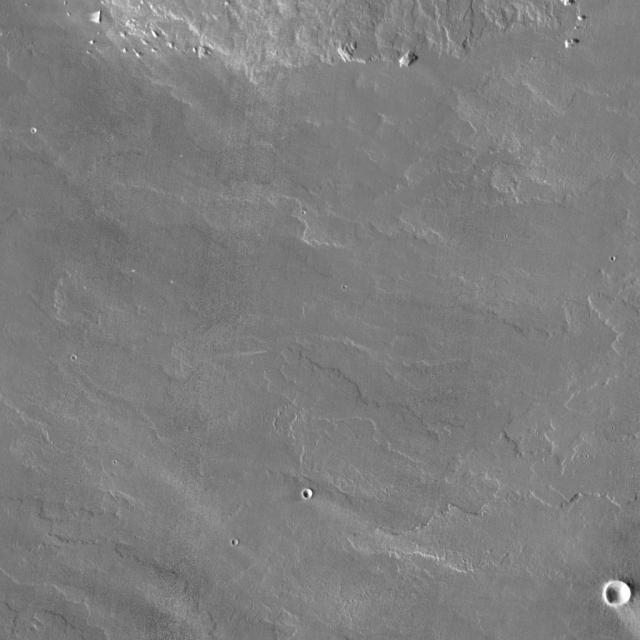crater: (603, 581, 629, 606), (302, 492, 310, 499)
